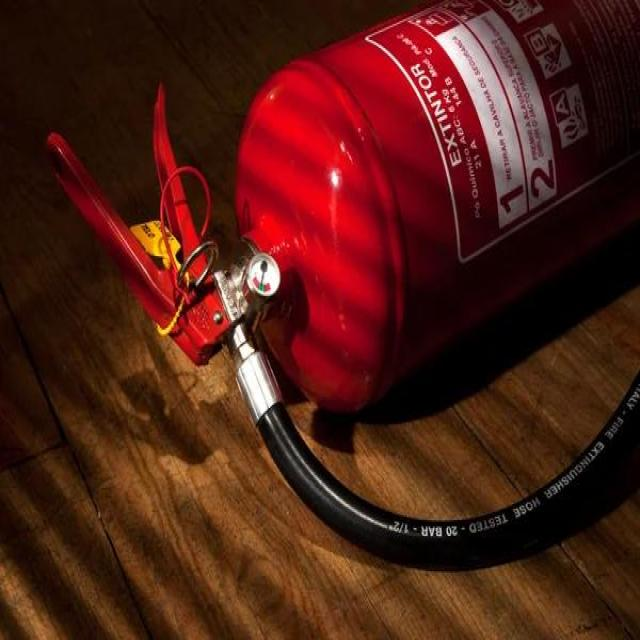fire_extinguisher: (37, 0, 639, 579)
